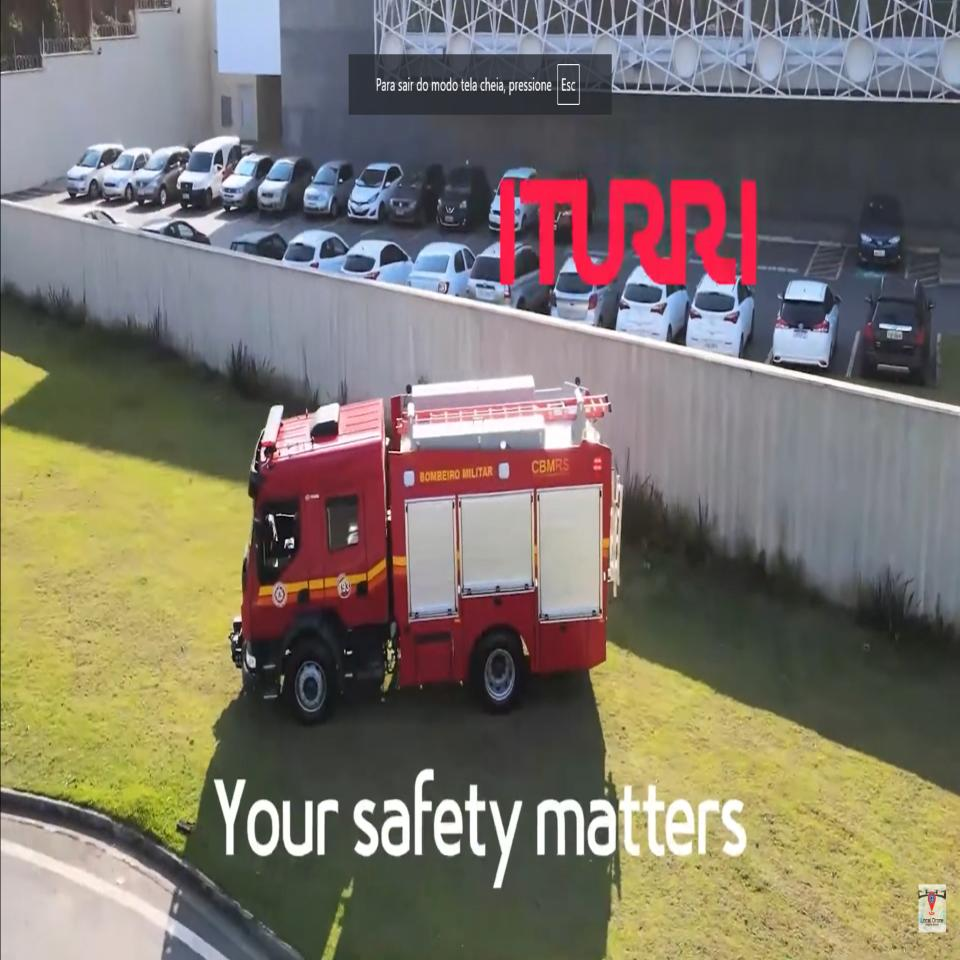viatura: (228, 365, 622, 721)
